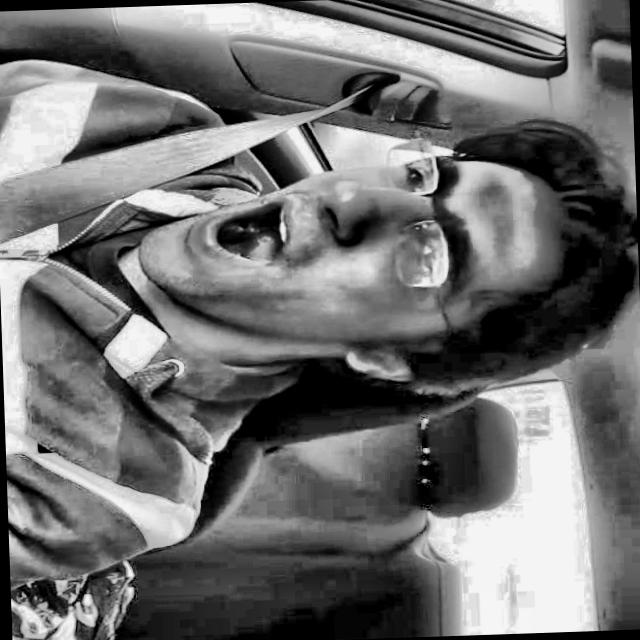open_eyes: (391, 227, 456, 291), (392, 149, 444, 201)
open_mouth: (180, 177, 306, 278)
